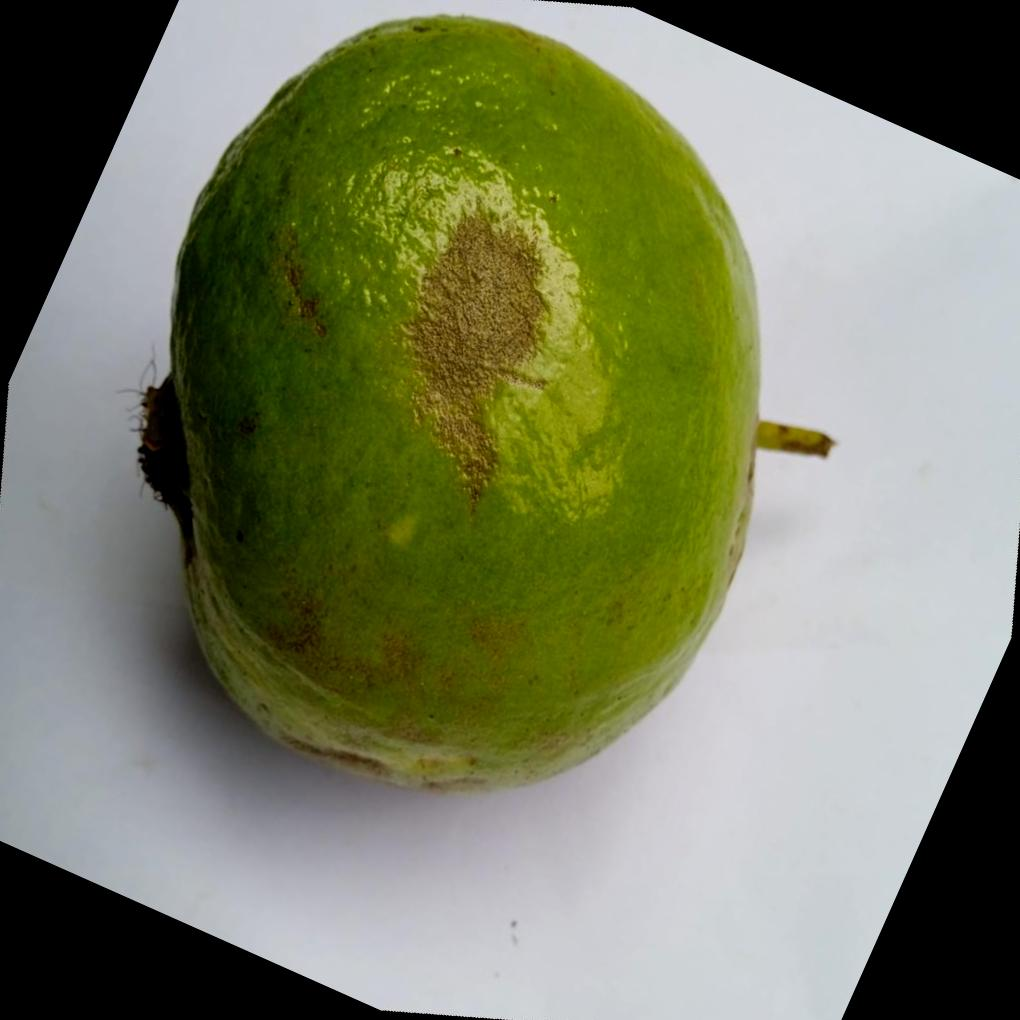FreshGuava: (139, 14, 829, 792)
